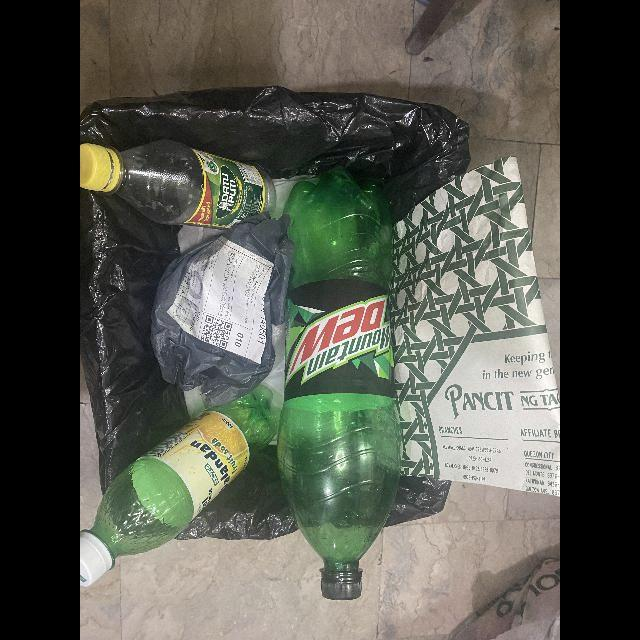paper: (390, 156, 560, 496)
plastic_bag: (150, 212, 295, 407)
plastic_bottle: (277, 176, 402, 602), (80, 384, 282, 587), (80, 140, 277, 230)
